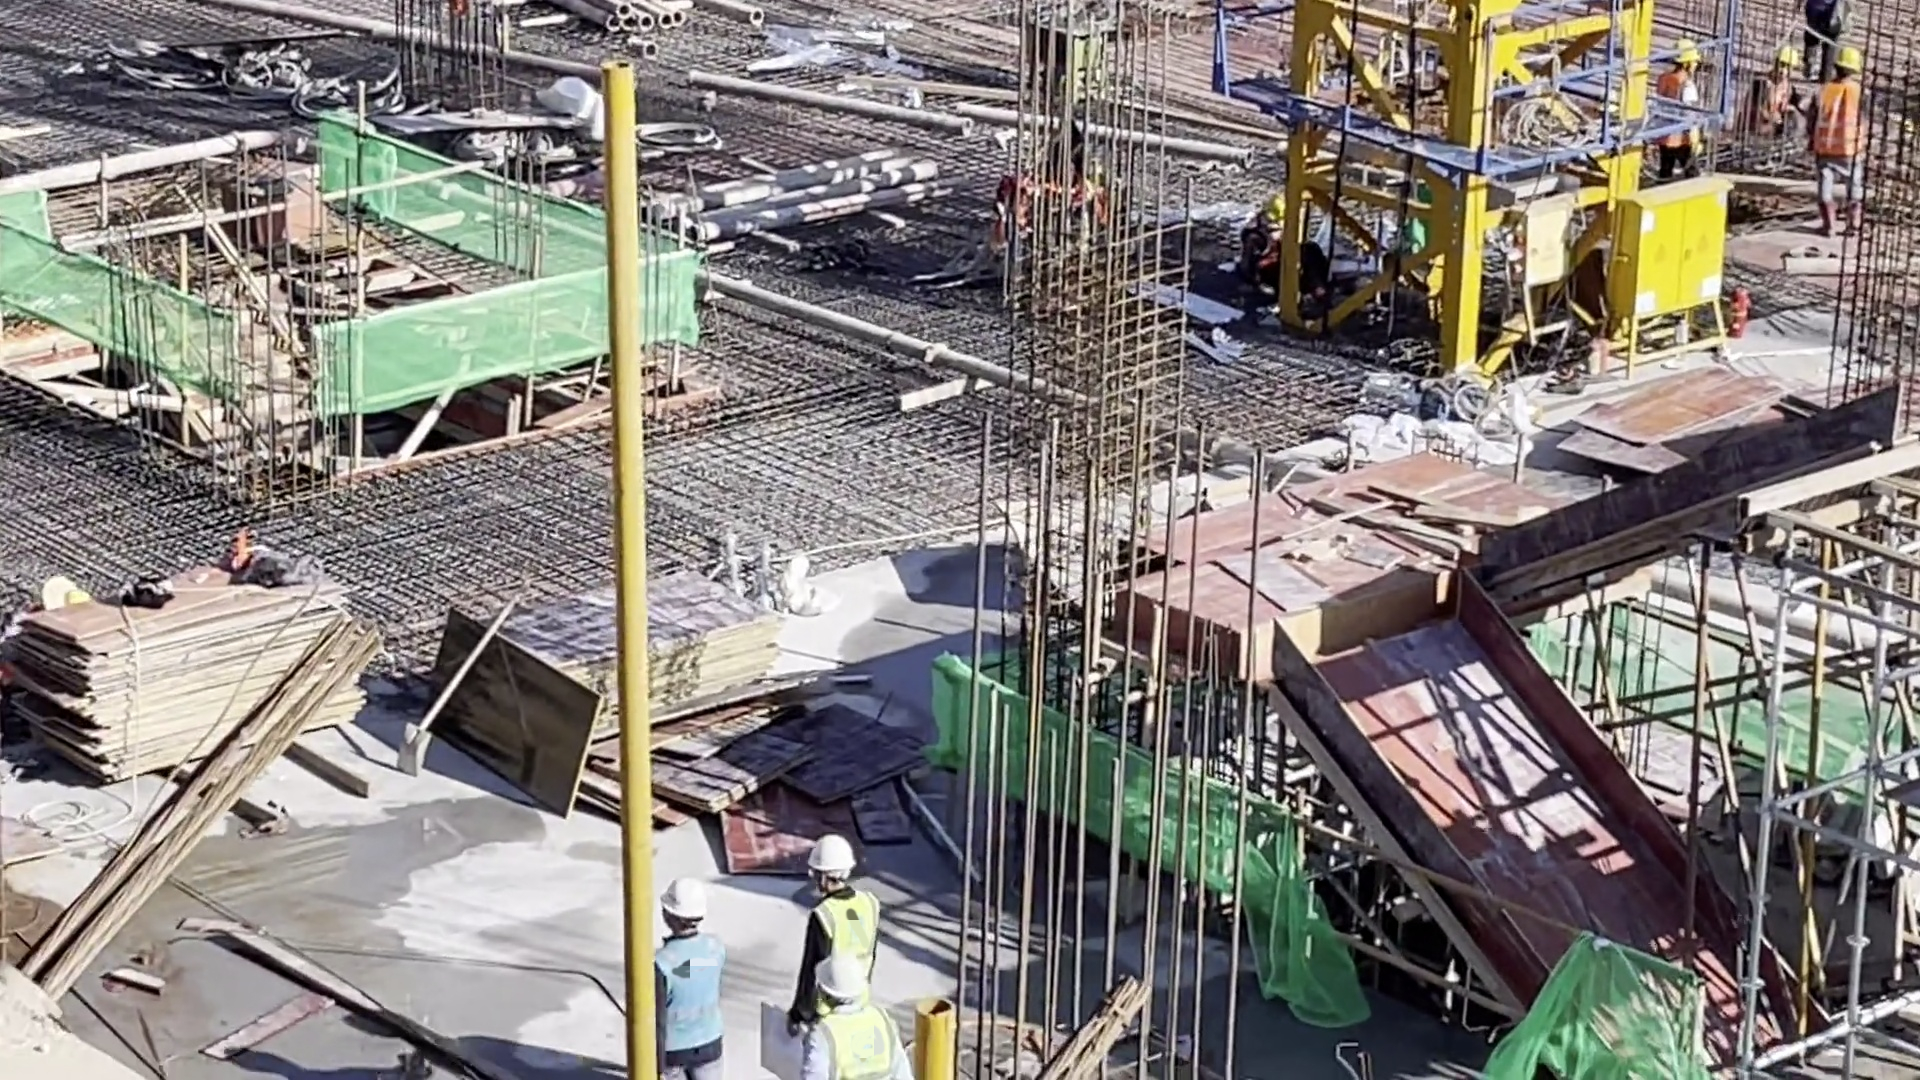board: (1, 546, 359, 785), (1171, 491, 1459, 687), (467, 568, 776, 748)
ebox: (1592, 174, 1748, 375), (1499, 191, 1587, 347)
helmet: (817, 955, 865, 1000), (809, 835, 856, 871), (663, 879, 706, 918), (1835, 48, 1861, 74), (1675, 41, 1701, 62), (1778, 46, 1798, 66)
person: (782, 831, 884, 1041), (800, 953, 917, 1080), (657, 875, 726, 1080), (1806, 44, 1870, 240), (1737, 44, 1801, 138), (1657, 39, 1703, 176)
vest: (657, 937, 724, 1054), (823, 1003, 898, 1080), (815, 889, 880, 958), (1817, 81, 1865, 155), (1657, 71, 1696, 146)
